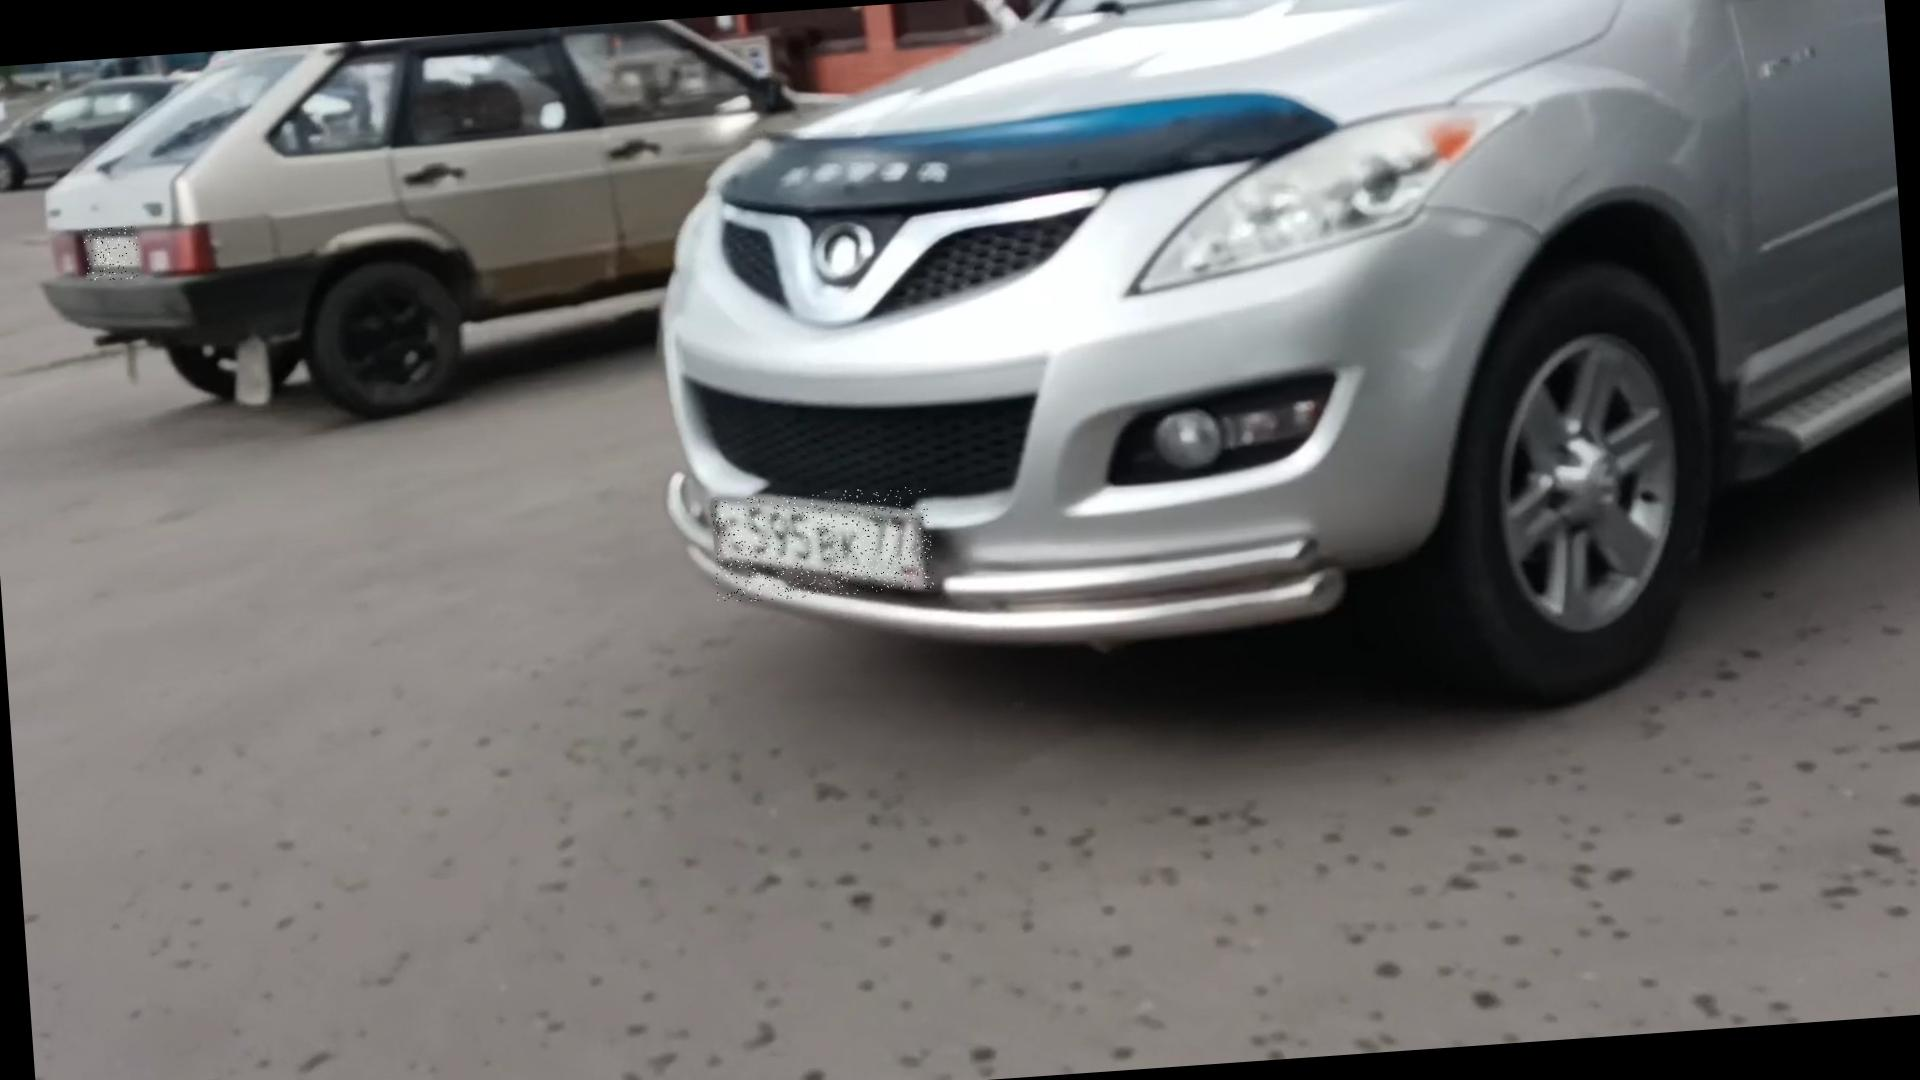plate: (712, 485, 936, 604), (85, 227, 142, 284)
